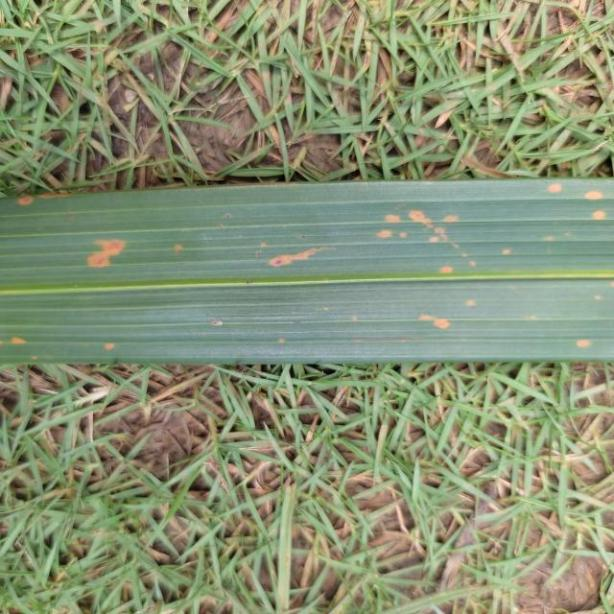Kalium: (0, 177, 614, 360)
